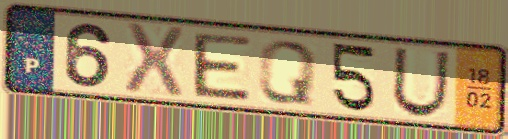5: (329, 40, 378, 113)
6: (62, 20, 114, 90)
E: (190, 31, 254, 104)
Q: (254, 38, 320, 107)
U: (389, 45, 453, 120)
X: (121, 20, 187, 99)
